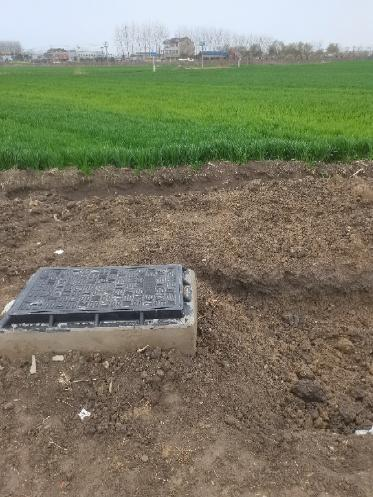wellcover: (2, 258, 217, 355)
